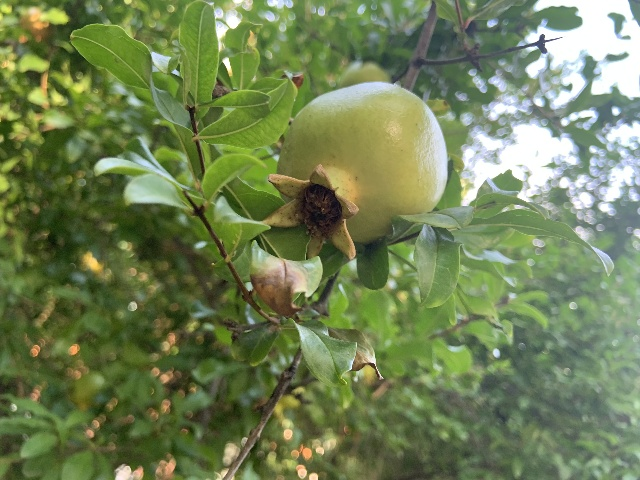mid-growth: (259, 82, 449, 260)
